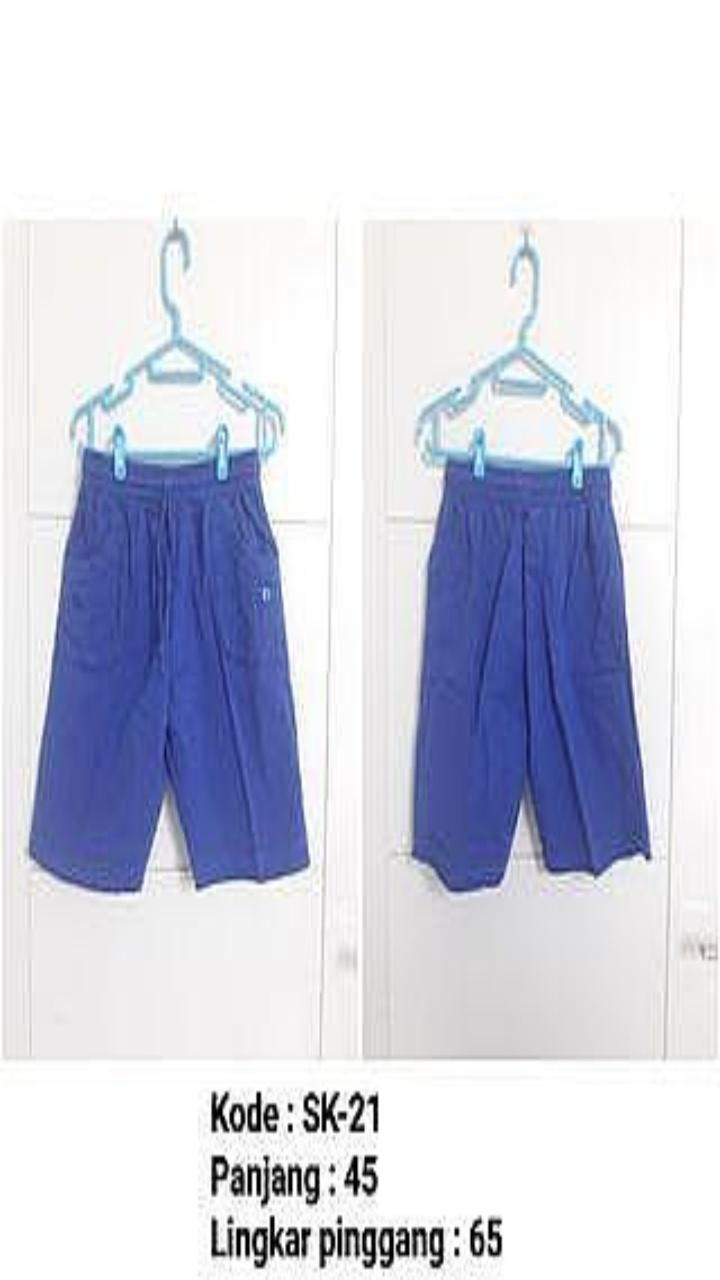Shorts: (30, 450, 307, 890), (414, 463, 649, 890)
